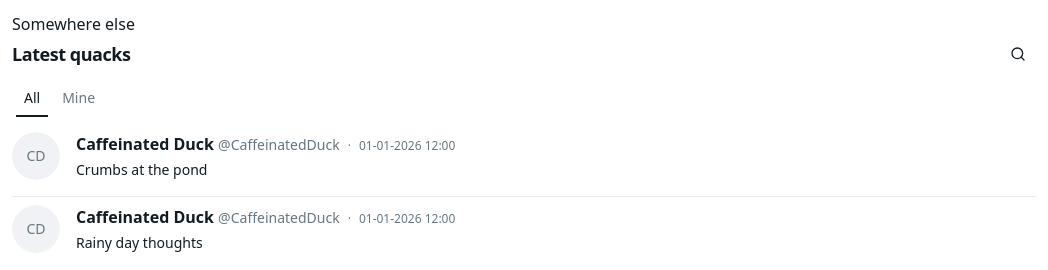
Test case: QuackFeed search › opens a focused field and shows no quacks before anything is typed
This screenshot has width=1048, height=270.
Expected: the text "Crumbs at the pond" is shown, left=76, top=160, right=208, bottom=179
Step 1. Click the button named "Toggle search" → click(1018, 54), box left=1000, top=36, right=1036, bottom=72
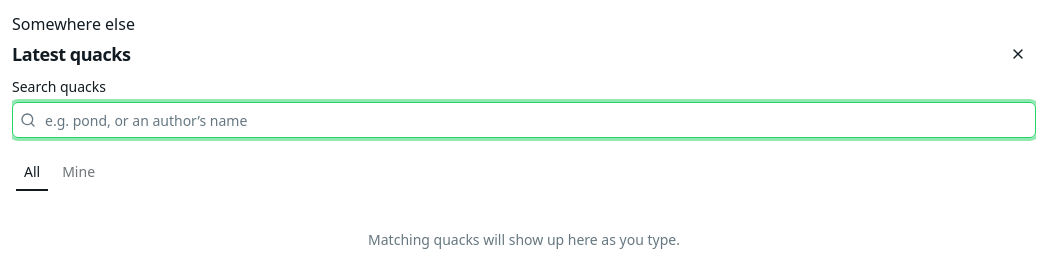
Result: the button named "Toggle search" is expanded at left=1000, top=36, right=1036, bottom=72
Result: the text "Crumbs at the pond" is gone
Result: the message reads "Matching quacks will show up here as you type." at left=368, top=230, right=680, bottom=249
